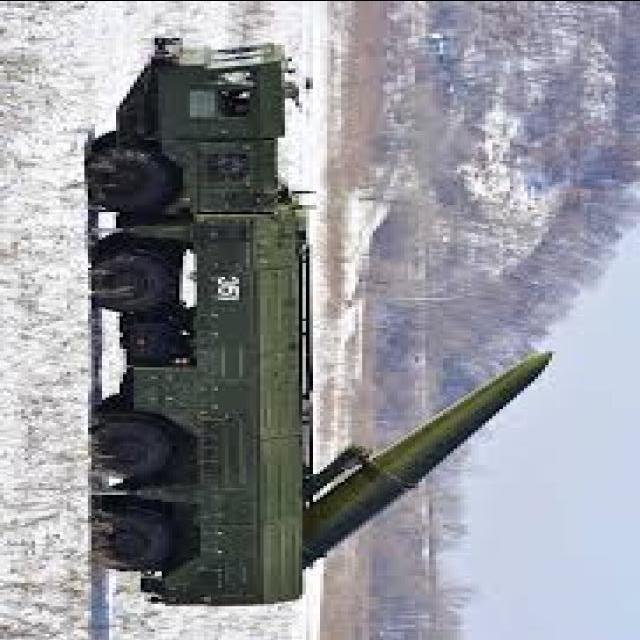Missile: (369, 347, 566, 492)
